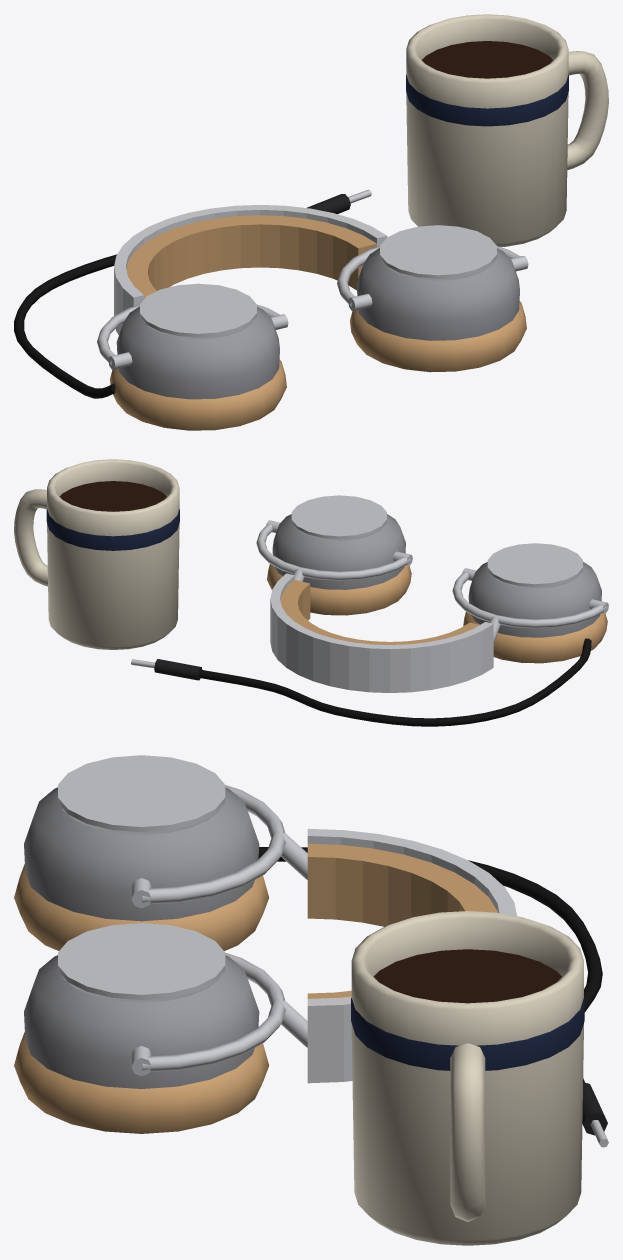
File: headphones-mug.glb
3 renders of one model, top to bottom at view 1: azimuth 30°, elevation 25°; view 2: azimuth 150°, elevation 25°; view 3: azimuth 270°, elevation 25°, orthographic. The views are drawn at different scales.
Parts seen in each view (by area): view 1: headphones_mug_N35; view 2: headphones_mug_N35; view 3: headphones_mug_N35.
Boxes of the visible parts, x1,y1,x2,y2 form: headphones_mug_N35: (14, 14, 608, 430); headphones_mug_N35: (14, 459, 608, 726); headphones_mug_N35: (14, 755, 608, 1245).
Size of the model in its own units: 0.3567 by 0.097 by 0.2098.
Materials: 1 (1 with a texture image).
